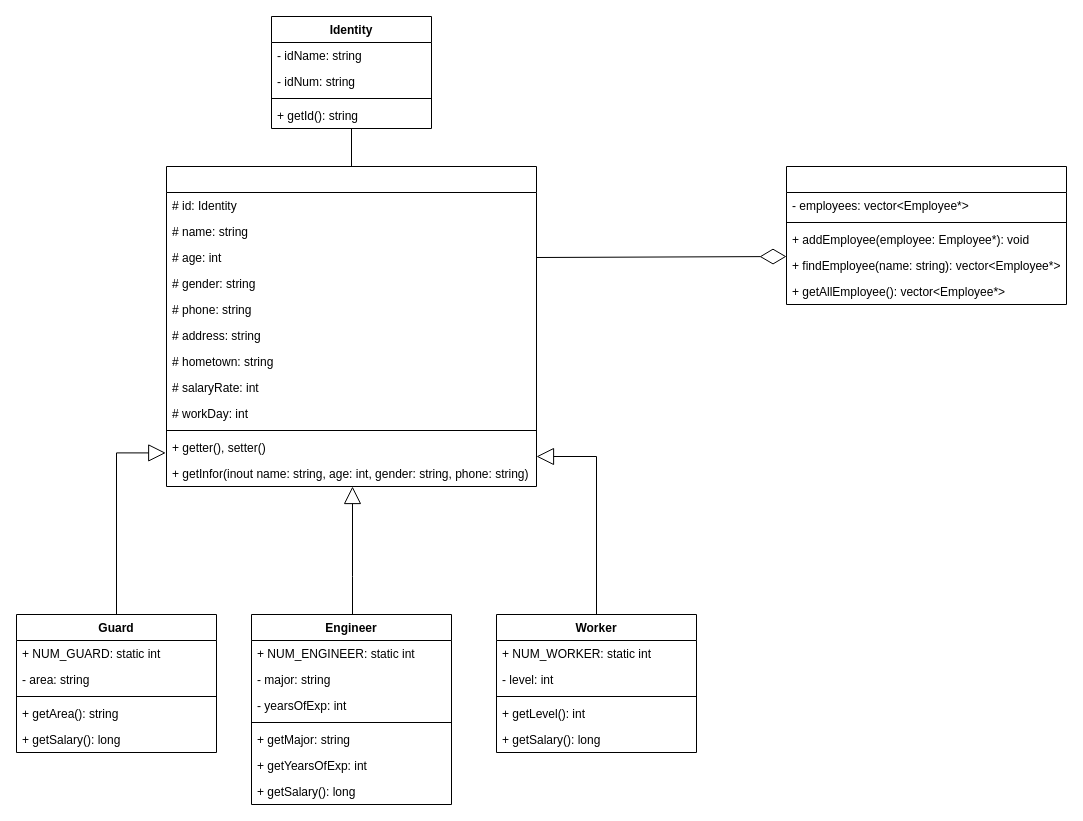
The diagram is 1083 pixels wide and 821 high, and some of its shapes have lost their labels. The shapes that lost their labels are listed below. From the top down, each one's box as (x1, y1, x2, y2) in pixels, then its label:
(786, 166, 1066, 304): Company
(166, 166, 536, 486): Employee
